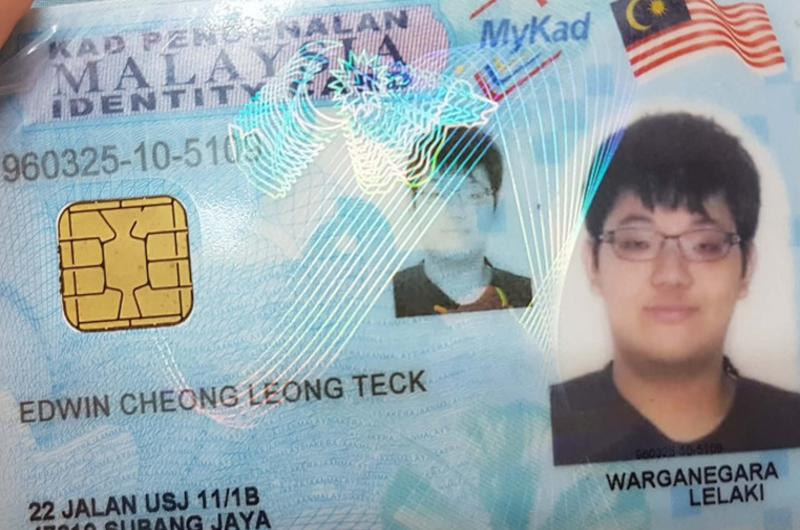hologram: (277, 194, 394, 373)
